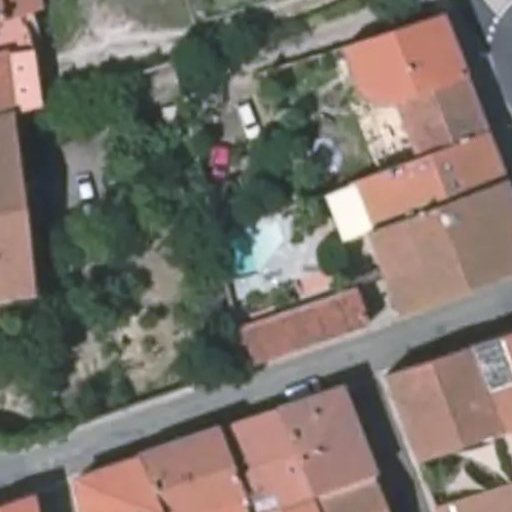pool: (219, 230, 292, 251)
